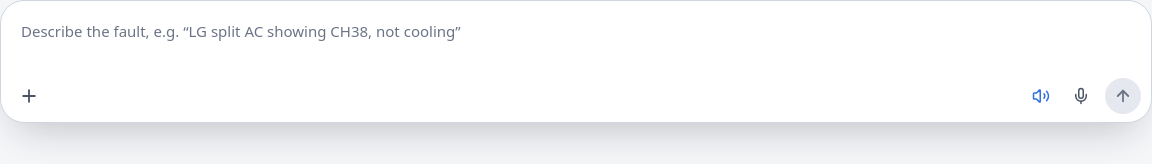
voice input › listens until Done, shows the words live, then sends the complete message once
Click the button named "Start speaking": (1081, 96) 1063,78 -> 1099,114
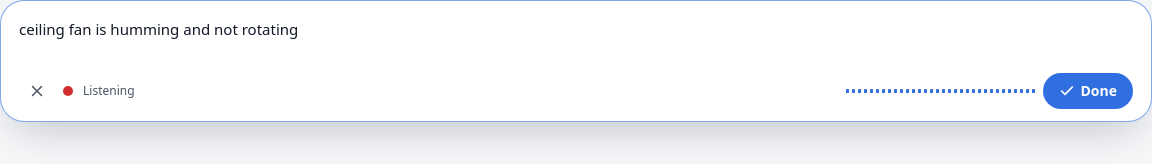
Now the button "Done" is shown
Now the text "ceiling fan is humming" is shown, box 19,19 -> 298,39
Click the button "Done": (1088, 91) 1042,73 -> 1133,109
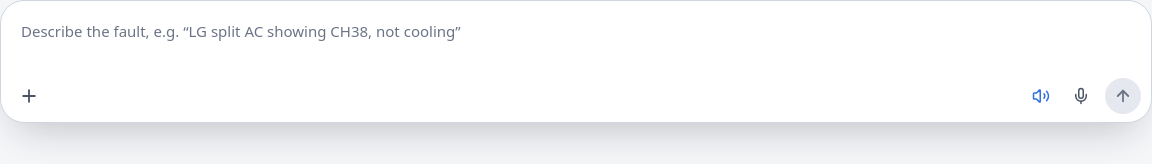
Now the text box named "Describe the appliance issue" is shown, box 9,9 -> 1143,78
